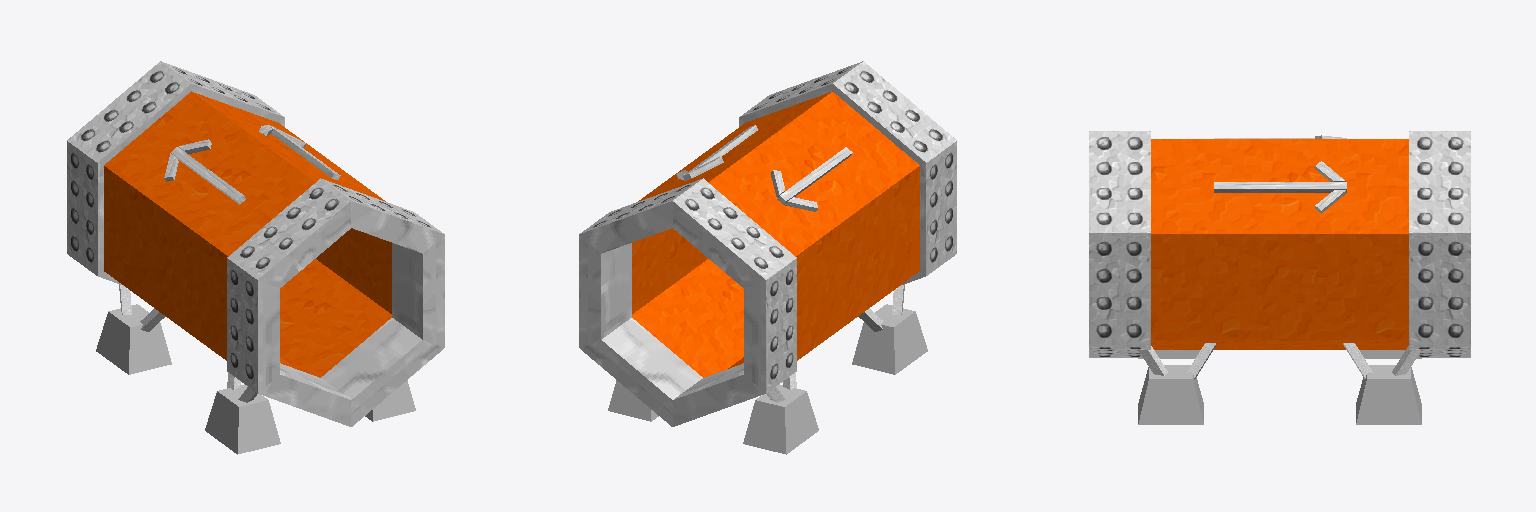
3 views of the same model, side by side, from view 1: azimuth 30°, elevation 25°; view 2: azimuth 150°, elevation 25°; view 3: azimuth 270°, elevation 25° (orthographic).
Parts seen in each view (by area): view 1: Cylinder_Cylinder.003, Band7.001_Circle.001, ConcreteSupport_Cube.006, Cube.001_Cube.008; view 2: Cylinder_Cylinder.003, Band7.001_Circle.001, ConcreteSupport_Cube.006, Cube.001_Cube.008; view 3: Cylinder_Cylinder.003, Band7.001_Circle.001, ConcreteSupport_Cube.006, Cube.001_Cube.008, SupportLeg_Cylinder, SupportLeg2_Cylinder.001.
Boxes of the visible parts, <box> form: Cylinder_Cylinder.003: <box>104,91,391,377</box>; Band7.001_Circle.001: <box>67,61,444,426</box>; ConcreteSupport_Cube.006: <box>96,304,415,454</box>; Cube.001_Cube.008: <box>164,125,340,204</box>; Cylinder_Cylinder.003: <box>632,91,919,377</box>; Band7.001_Circle.001: <box>579,61,956,426</box>; ConcreteSupport_Cube.006: <box>608,304,927,454</box>; Cube.001_Cube.008: <box>676,125,852,211</box>; Cylinder_Cylinder.003: <box>1151,139,1408,349</box>; Band7.001_Circle.001: <box>1089,131,1470,357</box>; ConcreteSupport_Cube.006: <box>1138,350,1421,424</box>; Cube.001_Cube.008: <box>1214,135,1346,213</box>; SupportLeg_Cylinder: <box>1139,346,1420,375</box>; SupportLeg2_Cylinder.001: <box>1187,343,1372,378</box>.
Size of the model in its own units: 2.33 by 2.97 by 4.1.
4 materials, 3 textured.